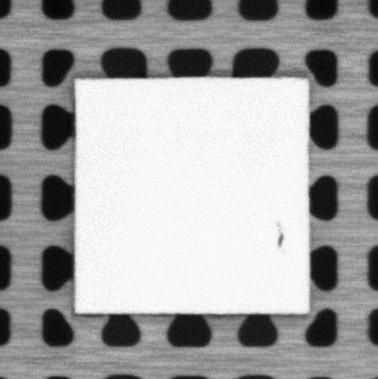DIE_INK: (275, 230, 288, 250)
